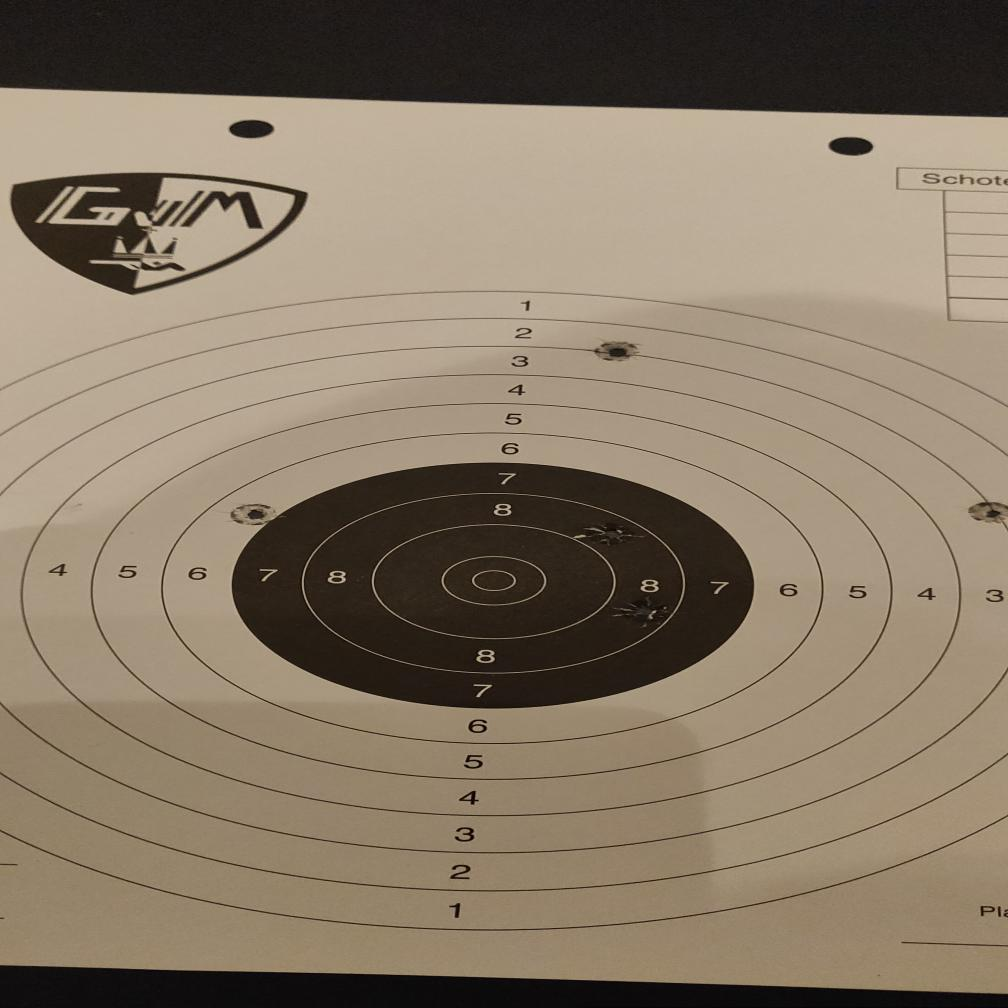3: (589, 340, 648, 362), (969, 500, 1008, 523)
6: (223, 502, 282, 528)
8: (621, 598, 674, 628), (584, 524, 642, 546)
Target: (0, 288, 1008, 933)
black_contour: (231, 461, 758, 708)
